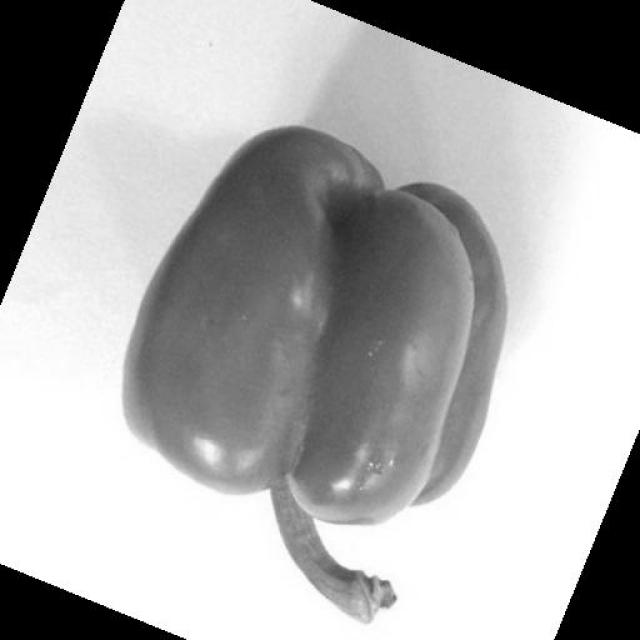Fresh_Capsicum: (139, 82, 522, 596)
